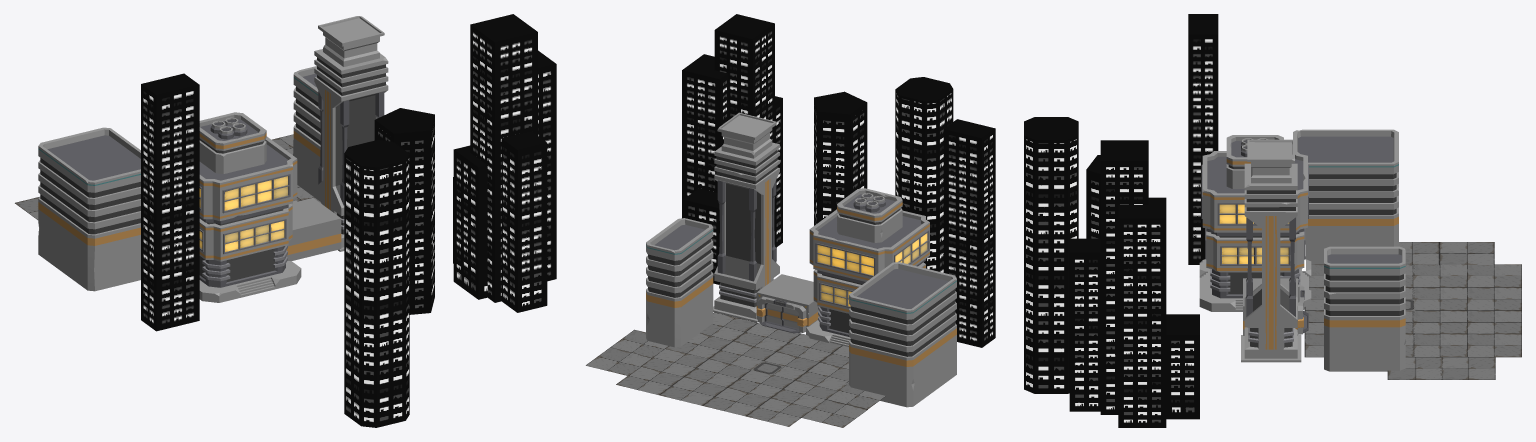
The model's file is Level01.glb.
3 renders of one model, left to right at view 1: azimuth 30°, elevation 25°; view 2: azimuth 150°, elevation 25°; view 3: azimuth 270°, elevation 25°, orthographic. The views are drawn at different scales.
Visible parts, largest first — view 1: SM_Bld_Background_Lrg_01, SM_Bld_Background_Med_06, SM_Bld_Large_04, SM_Bld_Large_Part_05, SM_Bld_Background_Med_02, SM_Bld_Large_03, SM_Bld_Background_Med_08, SM_Bld_Large_Part_04, SM_Bld_Section_Door_06; view 2: SM_Bld_Large_Part_05, SM_Bld_Background_Lrg_01, SM_Bld_Large_03, SM_Bld_Large_04, SM_Bld_Background_Med_02, SM_Bld_Large_Part_04, SM_Bld_Background_Med_06, SM_Bld_Background_Med_08, SM_Bld_Section_Door_06, SM_Env_Floor_01__10_, SM_Env_Floor_01__9_, SM_Env_Floor_01__11_ (+17 smaller); view 3: SM_Bld_Background_Lrg_01, SM_Bld_Background_Med_06, SM_Bld_Large_Part_05, SM_Bld_Large_03, SM_Bld_Large_04, SM_Bld_Large_Part_04, SM_Bld_Background_Med_02, SM_Env_Floor_01__13_, SM_Env_Floor_01__10_, SM_Env_Floor_01__8_, SM_Env_Floor_01__9_, SM_Env_Floor_01__12_ (+10 smaller).
Part boxes in pixels (left/top/right/bottom): SM_Bld_Background_Lrg_01: left=453, top=14, right=556, bottom=312; SM_Bld_Background_Med_06: left=344, top=140, right=409, bottom=427; SM_Bld_Large_04: left=199, top=112, right=301, bottom=302; SM_Bld_Large_Part_05: left=38, top=127, right=140, bottom=291; SM_Bld_Background_Med_02: left=141, top=73, right=199, bottom=331; SM_Bld_Large_03: left=314, top=16, right=388, bottom=251; SM_Bld_Background_Med_08: left=374, top=108, right=434, bottom=314; SM_Bld_Large_Part_04: left=293, top=66, right=321, bottom=201; SM_Bld_Section_Door_06: left=286, top=198, right=341, bottom=261; SM_Bld_Large_Part_05: left=849, top=262, right=956, bottom=407; SM_Bld_Background_Lrg_01: left=682, top=14, right=782, bottom=284; SM_Bld_Large_03: left=713, top=112, right=779, bottom=322; SM_Bld_Large_04: left=806, top=188, right=929, bottom=346; SM_Bld_Background_Med_02: left=943, top=119, right=995, bottom=347; SM_Bld_Large_Part_04: left=646, top=218, right=713, bottom=347; SM_Bld_Background_Med_06: left=895, top=77, right=953, bottom=272; SM_Bld_Background_Med_08: left=814, top=91, right=867, bottom=225; SM_Bld_Section_Door_06: left=756, top=274, right=818, bottom=333; SM_Env_Floor_01__10_: left=702, top=387, right=770, bottom=416; SM_Env_Floor_01__9_: left=659, top=377, right=726, bottom=405; SM_Env_Floor_01__11_: left=746, top=398, right=813, bottom=426; SM_Bld_Background_Lrg_01: left=1069, top=140, right=1199, bottom=427; SM_Bld_Background_Med_06: left=1024, top=117, right=1078, bottom=393; SM_Bld_Large_Part_05: left=1293, top=129, right=1398, bottom=264; SM_Bld_Large_03: left=1241, top=139, right=1301, bottom=362; SM_Bld_Large_04: left=1199, top=135, right=1311, bottom=311; SM_Bld_Large_Part_04: left=1324, top=246, right=1405, bottom=371; SM_Bld_Background_Med_02: left=1188, top=14, right=1218, bottom=264; SM_Env_Floor_01__13_: left=1412, top=310, right=1467, bottom=333; SM_Env_Floor_01__10_: left=1467, top=287, right=1521, bottom=310; SM_Env_Floor_01__8_: left=1467, top=334, right=1521, bottom=357; SM_Env_Floor_01__9_: left=1467, top=310, right=1521, bottom=333; SM_Env_Floor_01__12_: left=1412, top=334, right=1467, bottom=357.
Size of the model in its own units: 38.6 by 31.12 by 45.26.
Materials: 3 (2 with a texture image).
